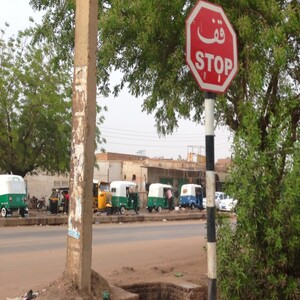stop: (182, 2, 238, 92)
